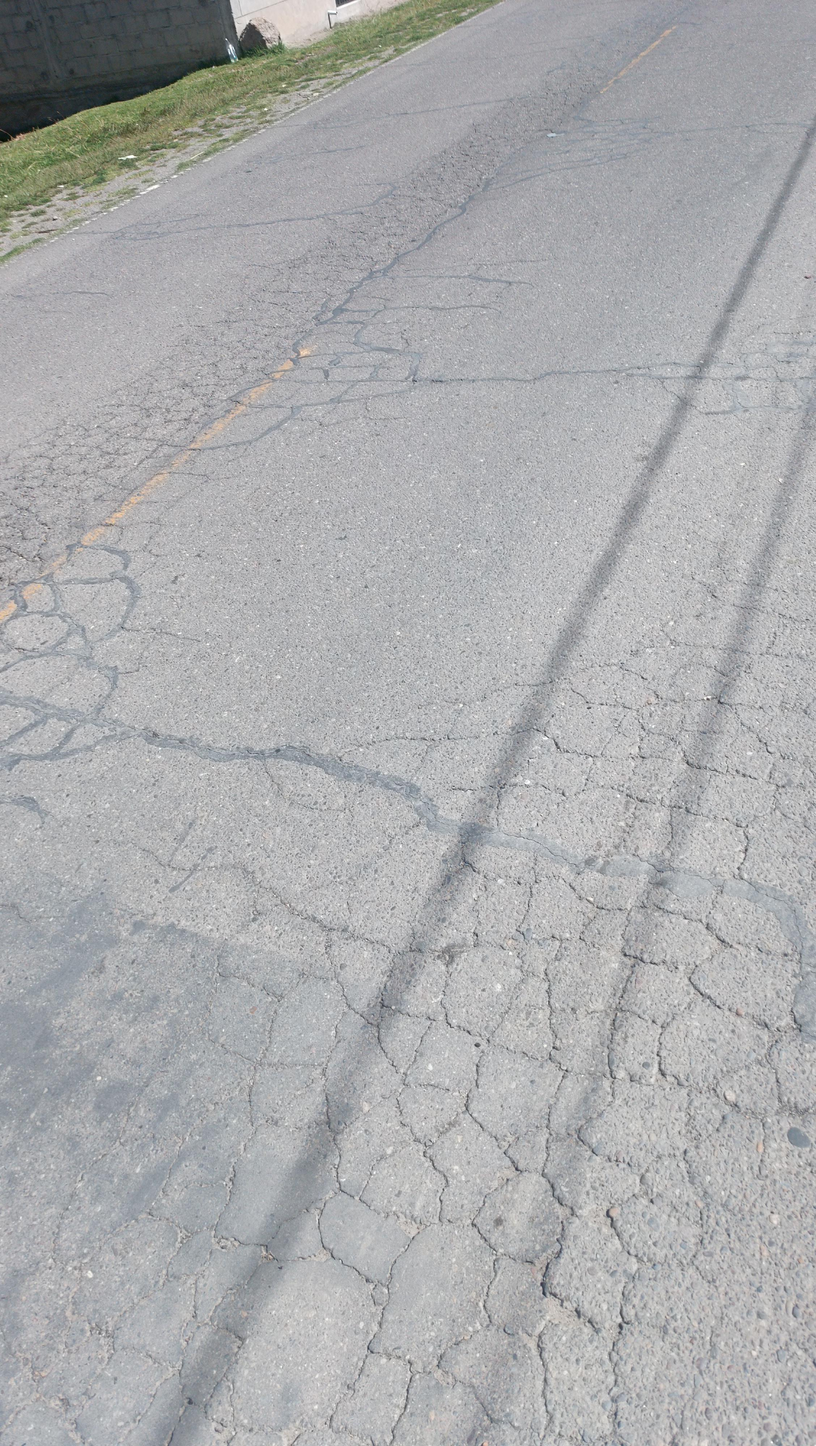GRIETA: (116, 215, 323, 241), (117, 723, 265, 758), (429, 368, 629, 384), (390, 98, 505, 115)
PIEL DE COCODRILO: (0, 563, 816, 1446), (0, 283, 427, 789), (272, 164, 487, 347), (632, 302, 816, 429), (446, 65, 596, 178), (489, 111, 662, 197), (745, 118, 816, 155)
